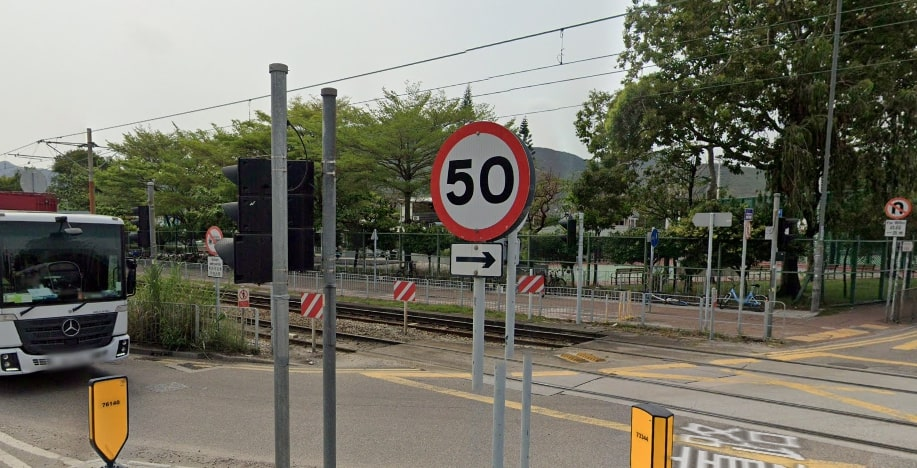Speed Limit: (430, 110, 530, 237)
